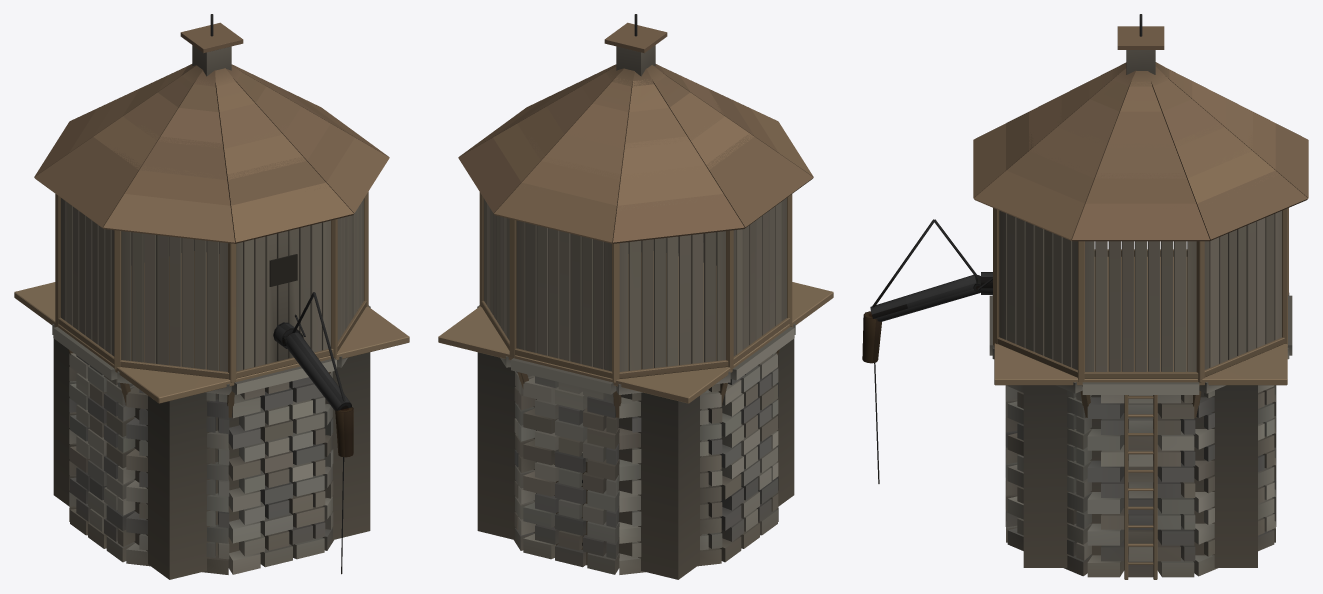
The model's file is su_kulesi.glb.
3 views of the same model, side by side, from view 1: azimuth 30°, elevation 25°; view 2: azimuth 150°, elevation 25°; view 3: azimuth 270°, elevation 25° (orthographic).
Parts seen in each view (by area): view 1: stone-base-001, plank-tankhouse-002, shingle-roof-001, dark-spout-001, wood-vent-001, window-tank-002; view 2: stone-base-001, plank-tankhouse-002, shingle-roof-001, wood-vent-001; view 3: stone-base-001, plank-tankhouse-002, shingle-roof-001, dark-spout-001, wood-ladder-002, wood-vent-001.
Part boxes in pixels (x1,y1,x2,y2): stone-base-001: (52,305,370,579); plank-tankhouse-002: (14,191,409,417); shingle-roof-001: (34,64,389,243); dark-spout-001: (273,292,353,574); wood-vent-001: (180,14,243,76); window-tank-002: (269,254,297,286); stone-base-001: (477,305,795,579); plank-tankhouse-002: (438,192,833,417); shingle-roof-001: (458,64,813,243); wood-vent-001: (604,14,667,76); stone-base-001: (989,293,1292,577); plank-tankhouse-002: (993,208,1288,417); shingle-roof-001: (973,62,1308,241); dark-spout-001: (862,219,992,483); wood-ladder-002: (1124,395,1157,579); wood-vent-001: (1117,14,1164,74).
Bounding box in the file's own units: 5.76 × 9.6 × 7.66.
